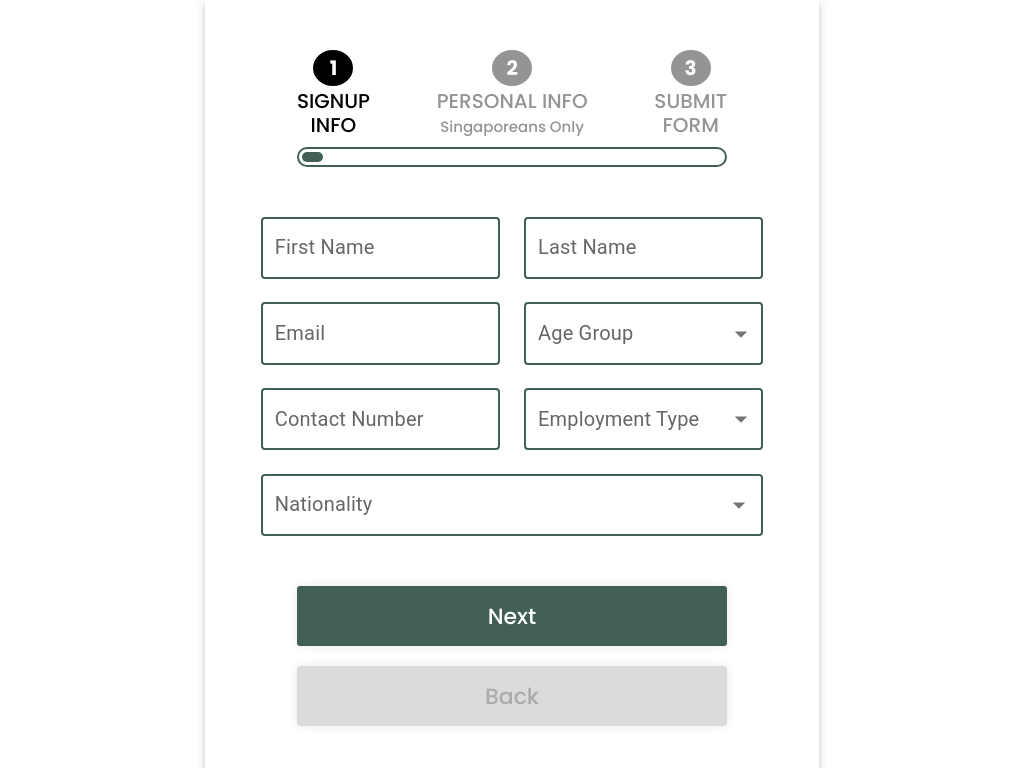
Join Form › Error popup to be displayed when input fields are empty
The width and height of the screenshot is (1024, 768).
Expected: the text "Error! Please check all required fields." is not shown
Click the button "Next". click: click(512, 616)
box: [297,586,727,646]
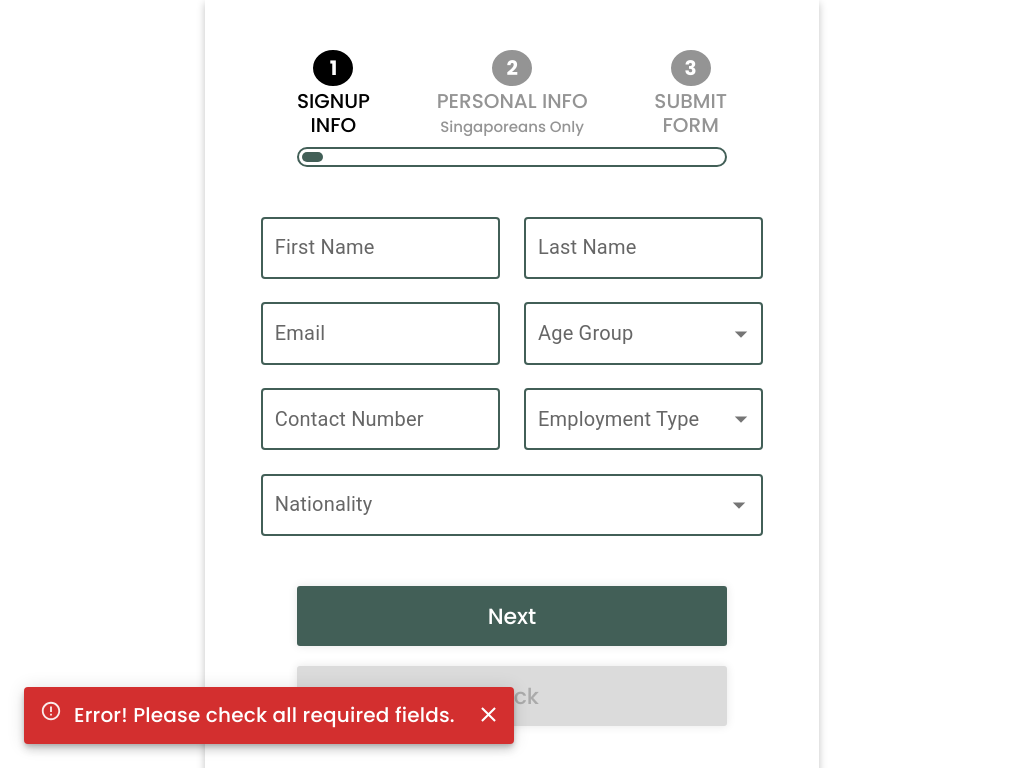
Expected: the text "Error! Please check all required fields." is shown, [74,693,455,738]
